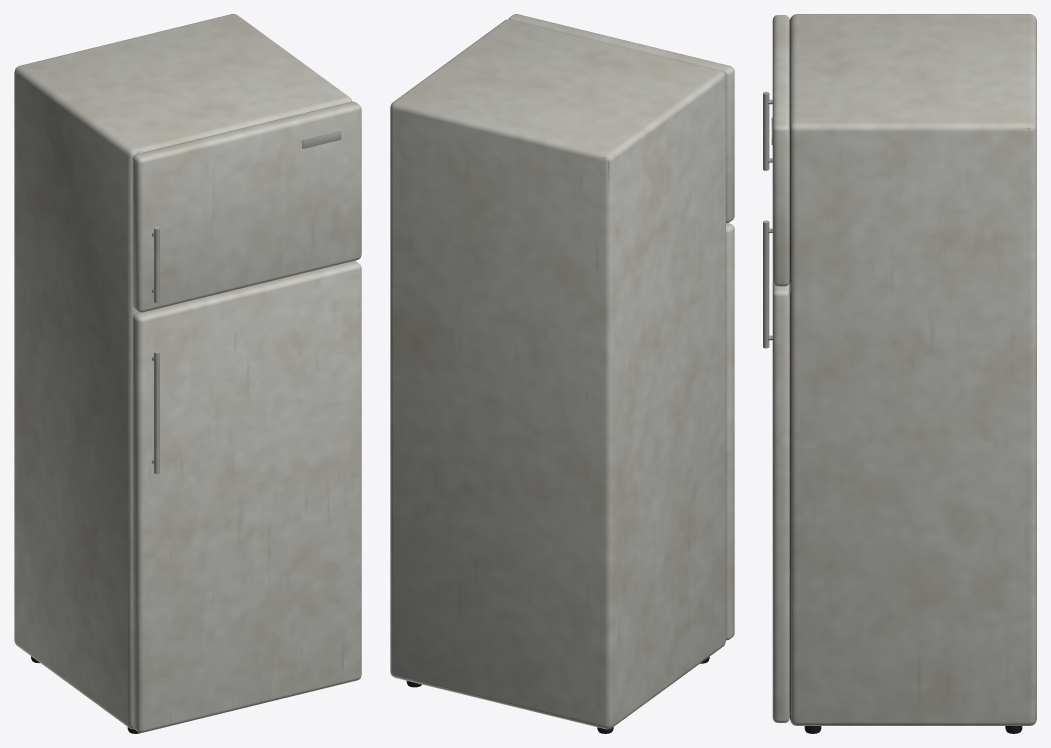
Rendered from geladeira.glb.
3 renders of one model, left to right at view 1: azimuth 30°, elevation 25°; view 2: azimuth 150°, elevation 25°; view 3: azimuth 270°, elevation 25°, orthographic. The views are drawn at different scales.
Parts seen in each view (by area): view 1: porta_geladeira, corpo, porta_freezer; view 2: corpo, porta_geladeira, porta_freezer; view 3: corpo, porta_geladeira, porta_freezer.
Boxes of the visible parts, x1,y1,x2,y2 form: porta_geladeira: [132, 261, 361, 732]; corpo: [14, 14, 352, 733]; porta_freezer: [132, 101, 361, 312]; corpo: [390, 19, 725, 733]; porta_geladeira: [726, 223, 734, 640]; porta_freezer: [508, 14, 734, 223]; corpo: [790, 14, 1036, 733]; porta_geladeira: [763, 220, 790, 722]; porta_freezer: [763, 15, 790, 286].
Size of the model in its own units: 0.7 by 1.76 by 0.713.
2 materials, 2 textured.
